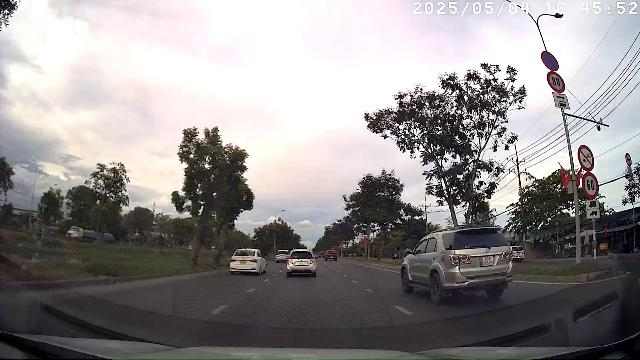127-toc-do-toi-da-60: (582, 173, 598, 200)
127-toc-do-toi-da-80: (546, 72, 566, 92)
130-cam-dung-va-do-xe: (541, 52, 559, 70)
